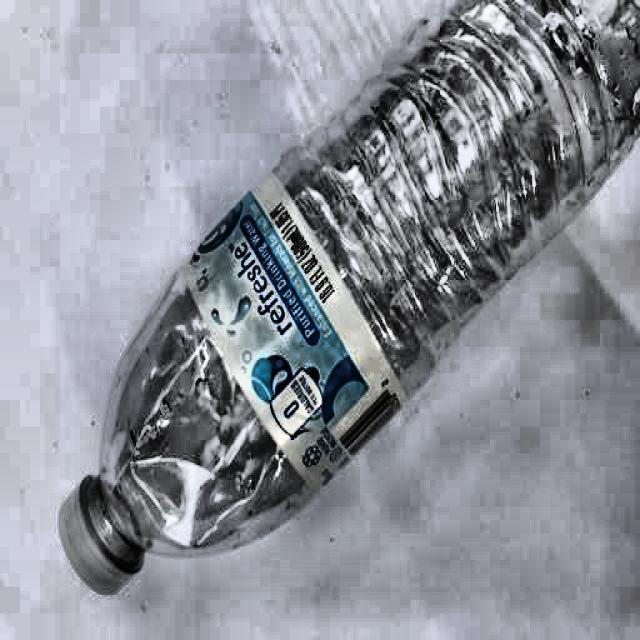plastic: (54, 9, 640, 600)
